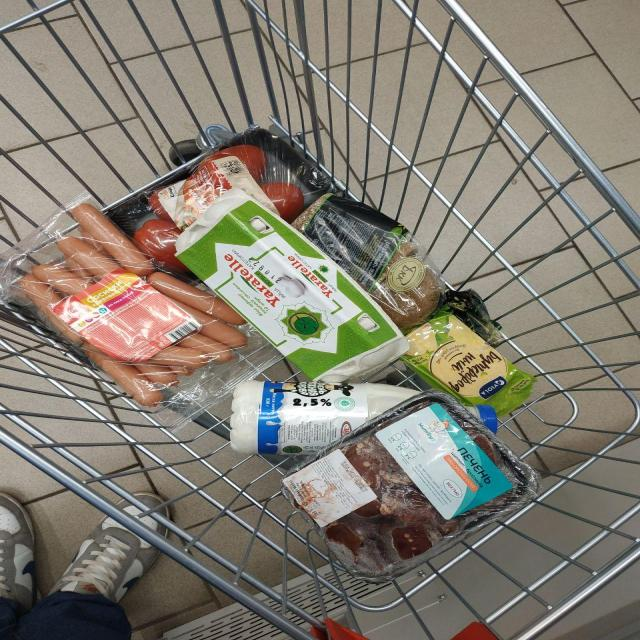Bread: (292, 194, 503, 345)
Cheese: (400, 311, 535, 416)
Eggs: (178, 190, 407, 381)
Meat: (283, 391, 538, 582)
Milk: (230, 381, 418, 454), (472, 406, 495, 431)
Sausages: (3, 195, 280, 428)
Tomatoes: (133, 219, 190, 272), (200, 145, 267, 182), (260, 182, 305, 222), (148, 192, 172, 221)
